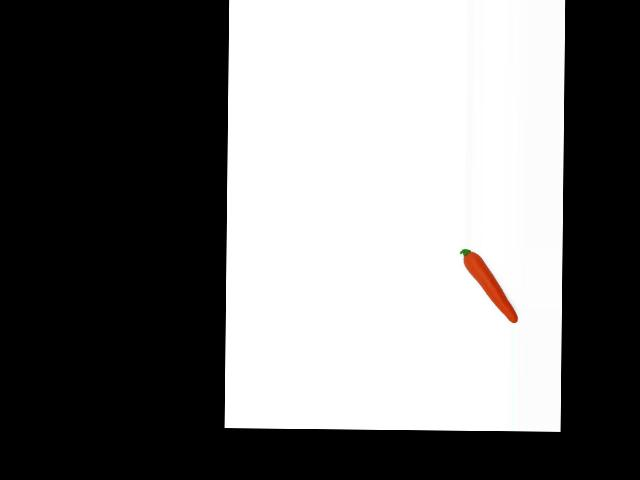carrot: (460, 251, 522, 323)
